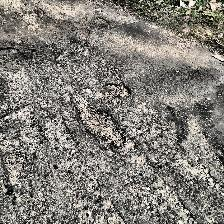pothole: (74, 98, 124, 146), (3, 152, 28, 184), (104, 83, 132, 99)
